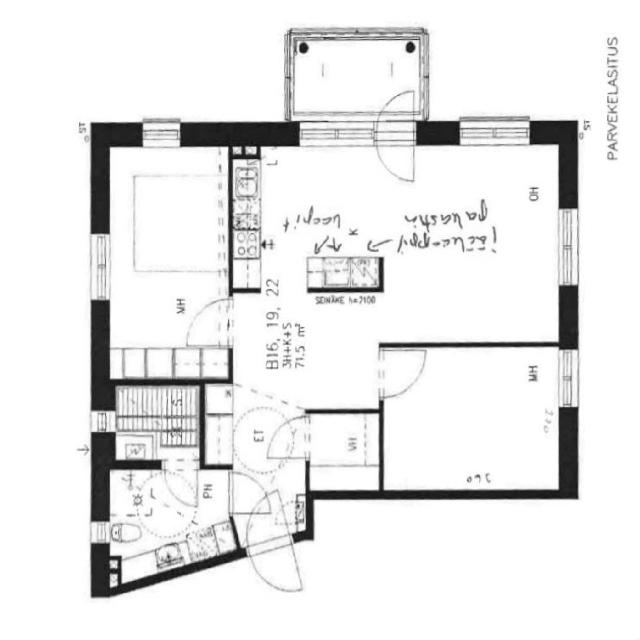door: (241, 503, 306, 597), (372, 84, 422, 190), (373, 344, 431, 401), (181, 294, 236, 351), (158, 454, 200, 510), (266, 413, 312, 462), (227, 469, 270, 515), (135, 114, 189, 150)
window: (452, 112, 542, 150), (553, 198, 586, 297), (83, 224, 115, 312), (297, 122, 380, 154), (553, 342, 583, 422), (134, 114, 187, 148), (89, 402, 118, 439), (86, 515, 114, 549)
zone: (102, 136, 233, 376), (380, 342, 566, 500), (224, 292, 380, 414), (103, 468, 235, 576), (110, 382, 204, 463), (307, 410, 382, 494)
